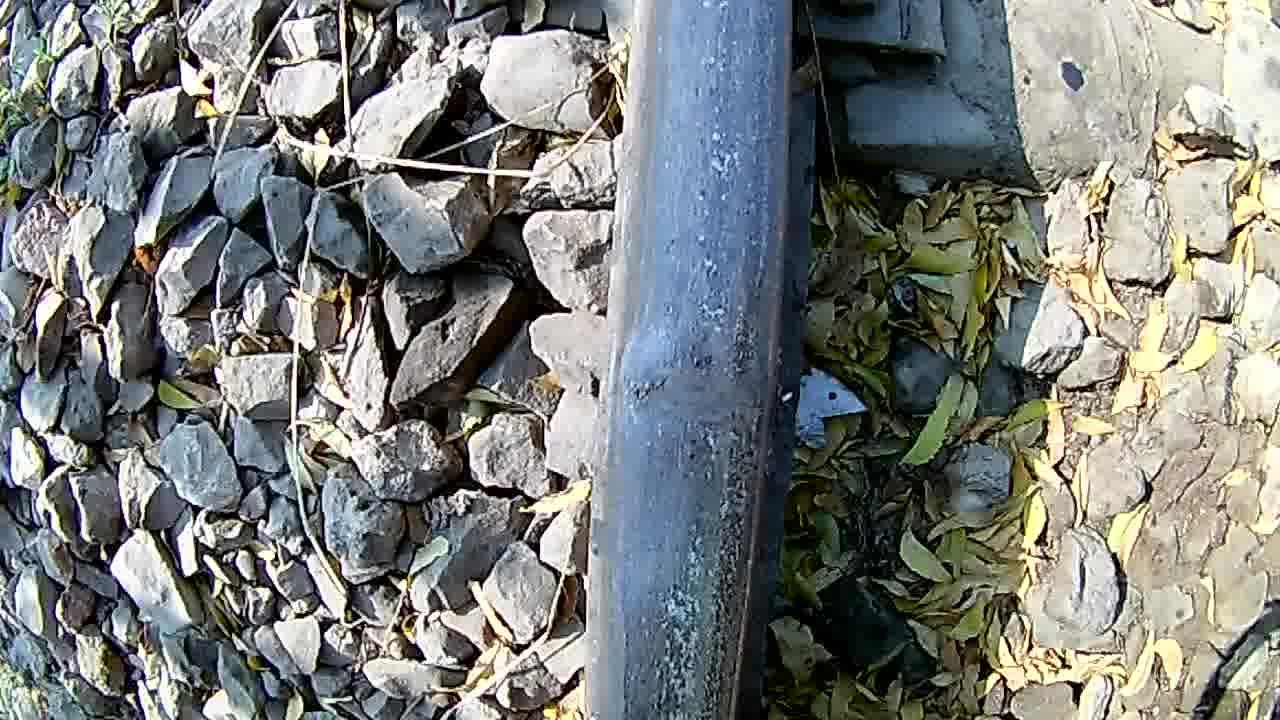bolt_missing: (616, 289, 759, 720)
